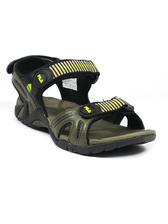shoes: (3, 50, 157, 156)
